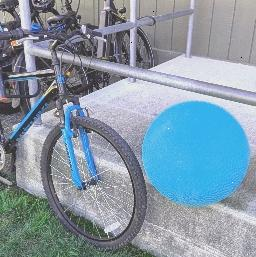algae: (141, 98, 251, 206)
